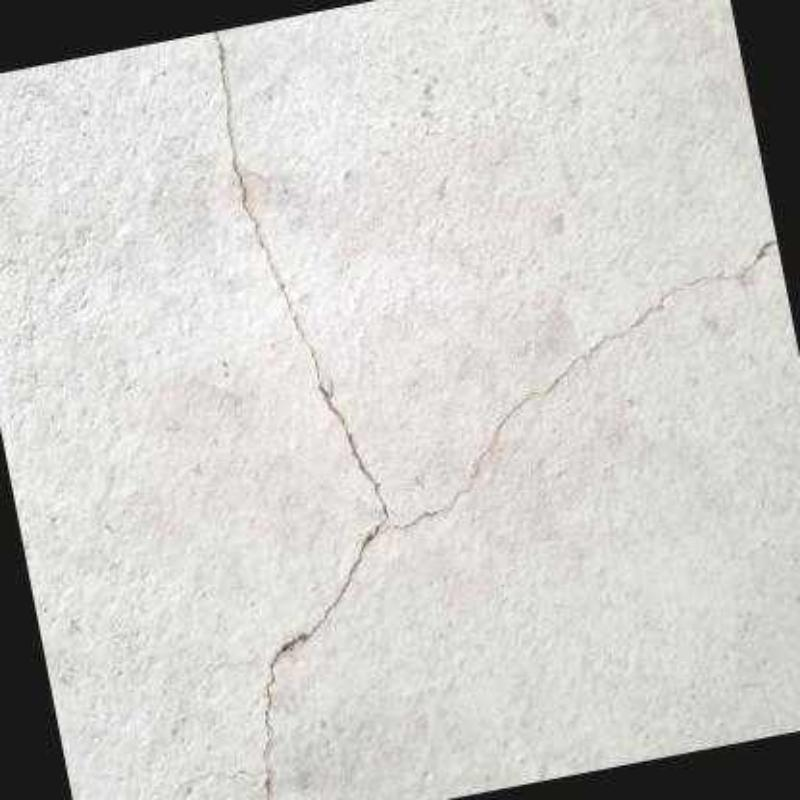pothole: (204, 27, 778, 800)
